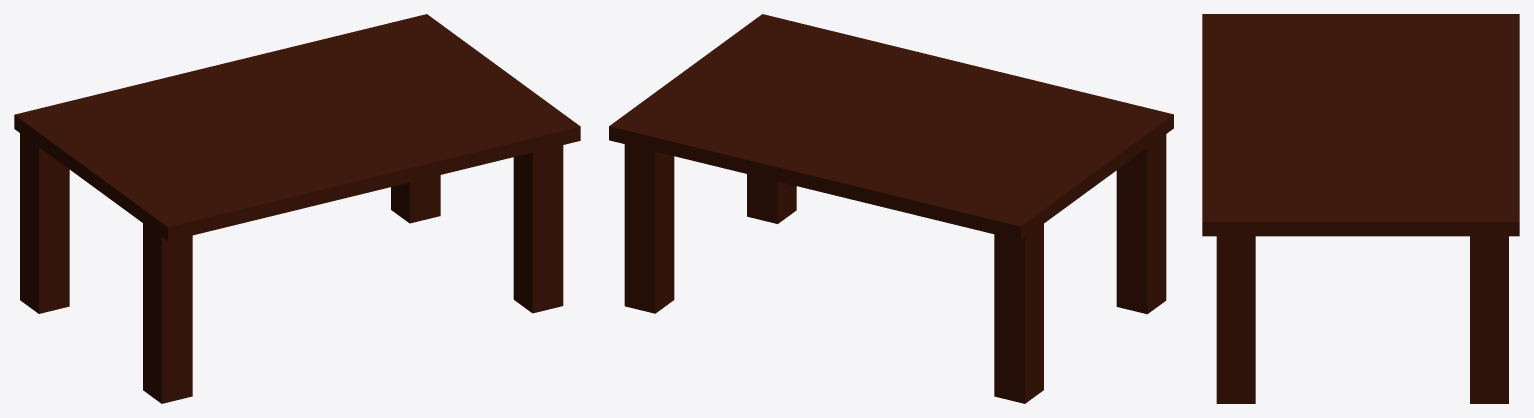
File: mejaGudang.obj
3 views of the same model, side by side, from view 1: azimuth 30°, elevation 25°; view 2: azimuth 150°, elevation 25°; view 3: azimuth 270°, elevation 25° (orthographic). The views are drawn at different scales.
Visible parts, largest first — view 1: Cube.032_Cube.071; view 2: Cube.032_Cube.071; view 3: Cube.032_Cube.071.
Part boxes in pixels (bbox=[...]): Cube.032_Cube.071: bbox=[14, 14, 580, 403]; Cube.032_Cube.071: bbox=[609, 14, 1173, 403]; Cube.032_Cube.071: bbox=[1202, 14, 1519, 403].
Size of the model in its own units: 15.43 by 6.5 by 9.96.
